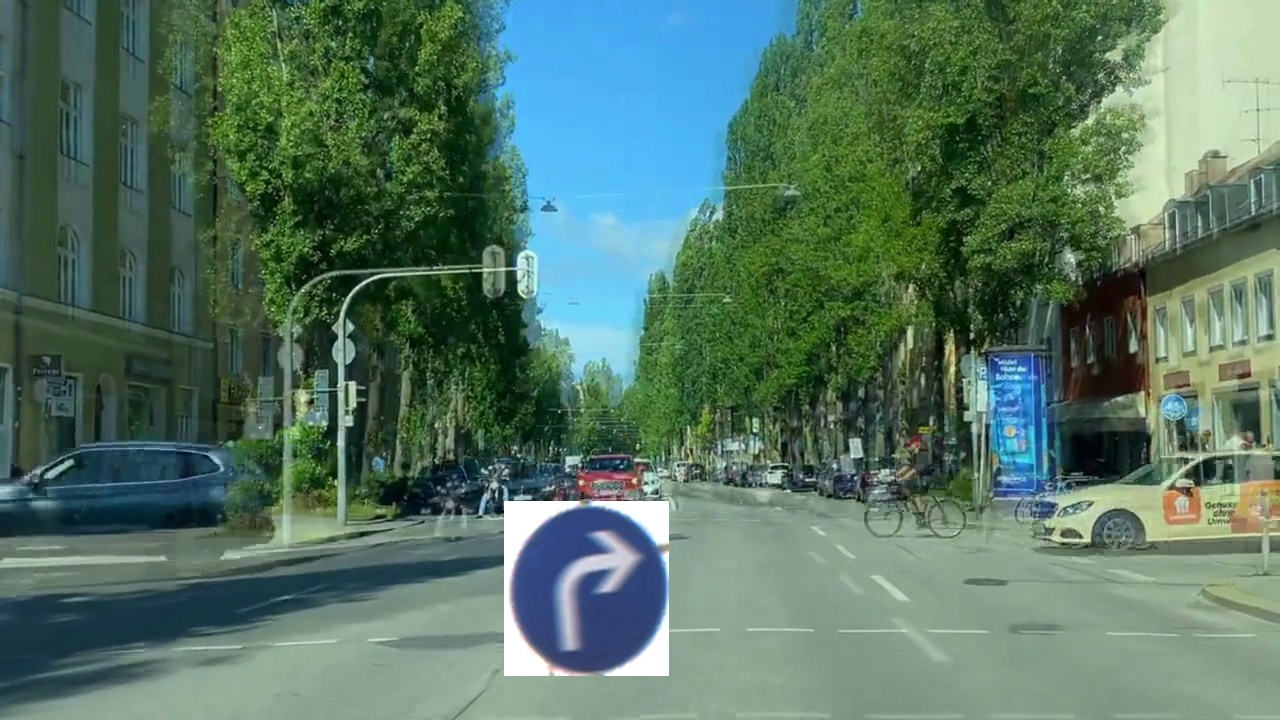Turn right: (504, 501, 669, 676)
